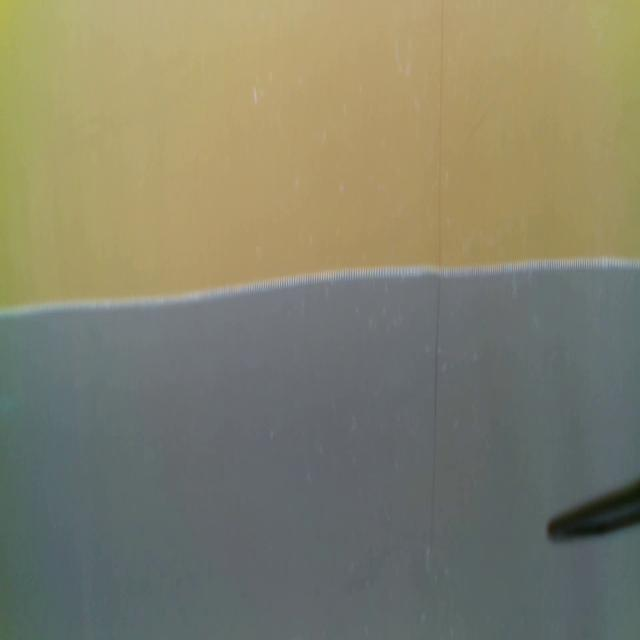crease: (429, 0, 447, 535)
